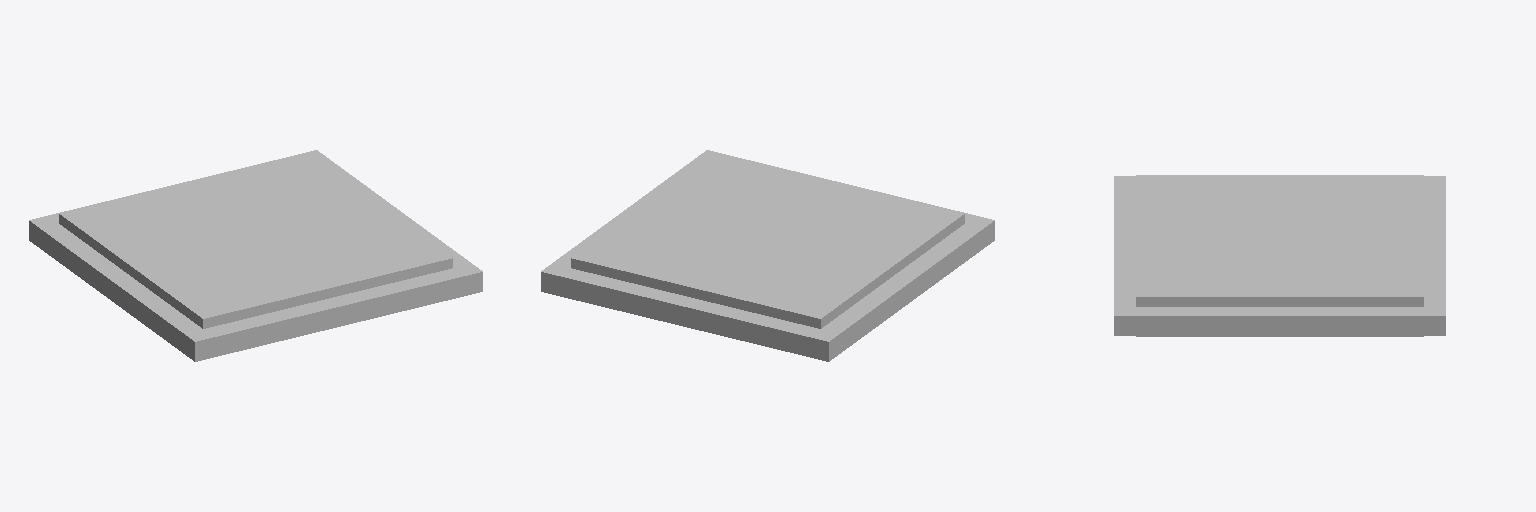
File: Platform standard.obj
3 renders of one model, left to right at view 1: azimuth 30°, elevation 25°; view 2: azimuth 150°, elevation 25°; view 3: azimuth 270°, elevation 25°, orthographic.
Parts seen in each view (by area): view 1: object 1; view 2: object 1; view 3: object 1.
Part boxes in pixels (x1,y1,x2,y2): object 1: (29,150,482,361); object 1: (541,150,994,361); object 1: (1114,175,1445,336).
Size of the model in its own units: 3 by 0.4 by 3.